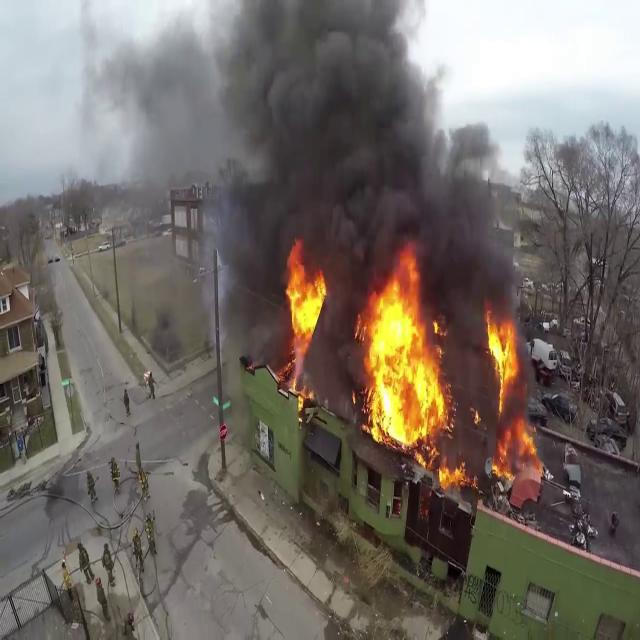Fire: (354, 258, 456, 461), (280, 238, 328, 392), (482, 306, 522, 412), (492, 415, 547, 488)
Smoke: (195, 0, 524, 308), (66, 1, 239, 188)
